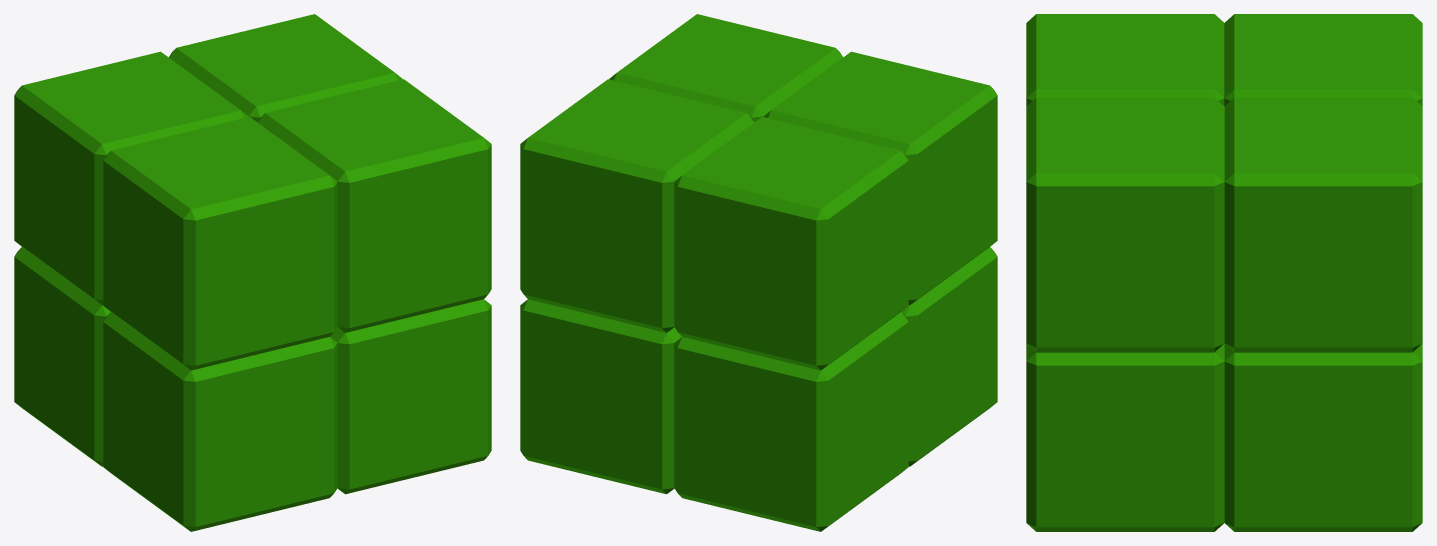
File: GroundVoxel.fbx
3 renders of one model, left to right at view 1: azimuth 30°, elevation 25°; view 2: azimuth 150°, elevation 25°; view 3: azimuth 270°, elevation 25°, orthographic. The views are drawn at different scales.
Visible parts, largest first — view 1: pCube3152; view 2: pCube3152; view 3: pCube3152.
Part boxes in pixels (<box>): pCube3152: <box>14,14,491,531</box>; pCube3152: <box>520,14,997,531</box>; pCube3152: <box>1026,14,1422,531</box>.
Size of the model in its own units: 1 by 1 by 1.
